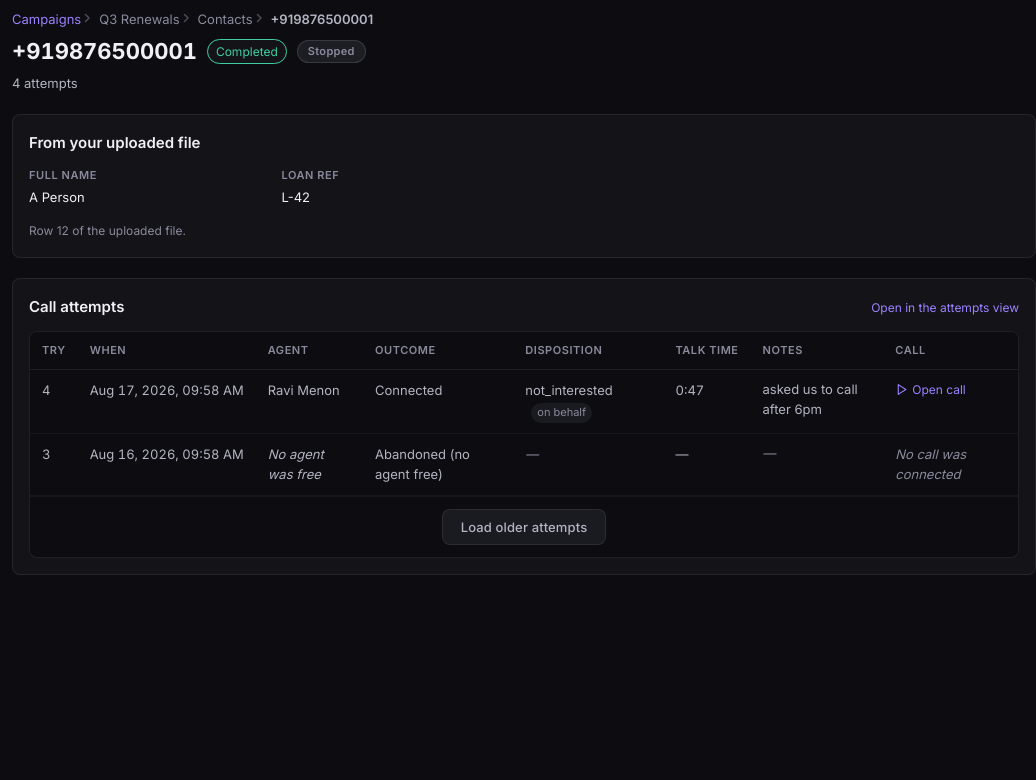
it: paging the history › a failed "Load older attempts" keeps the contact and the loaded rows on screen
Click the button with test id "contact-attempts-more": click(524, 527) [442, 509, 606, 545]
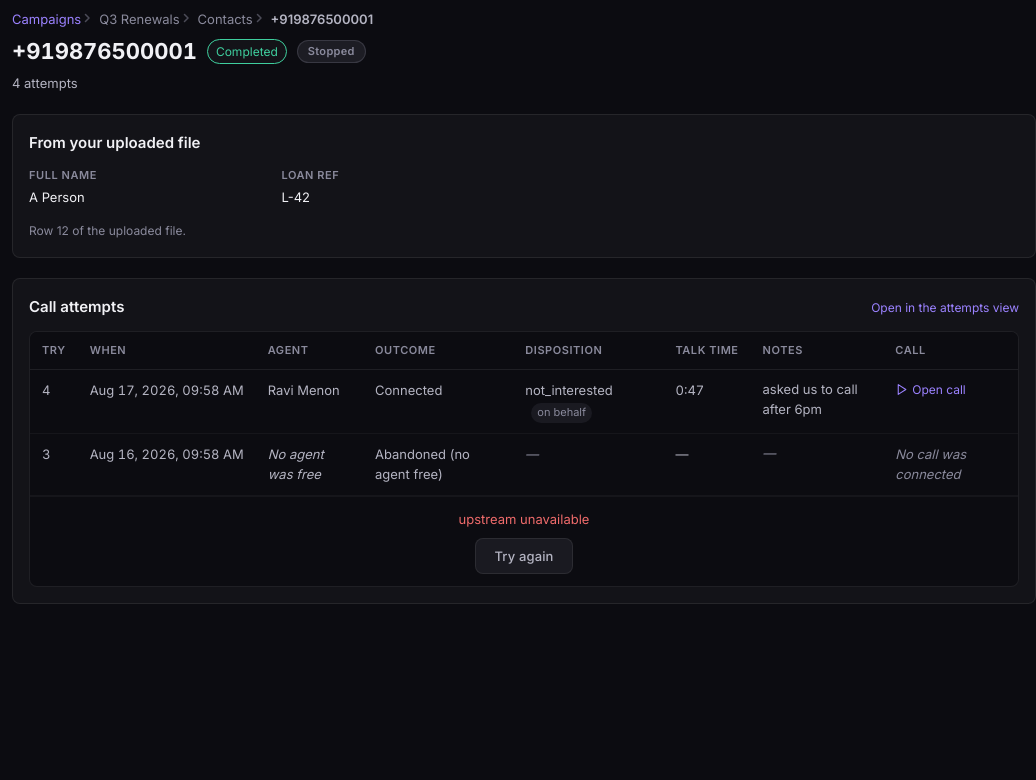
Expected: the text "4 attempts" is shown, [12, 75, 78, 91]
Expected: the message "upstream unavailable" is shown, [459, 509, 589, 530]
Expected: the button "Try again" is shown, [476, 538, 572, 574]
